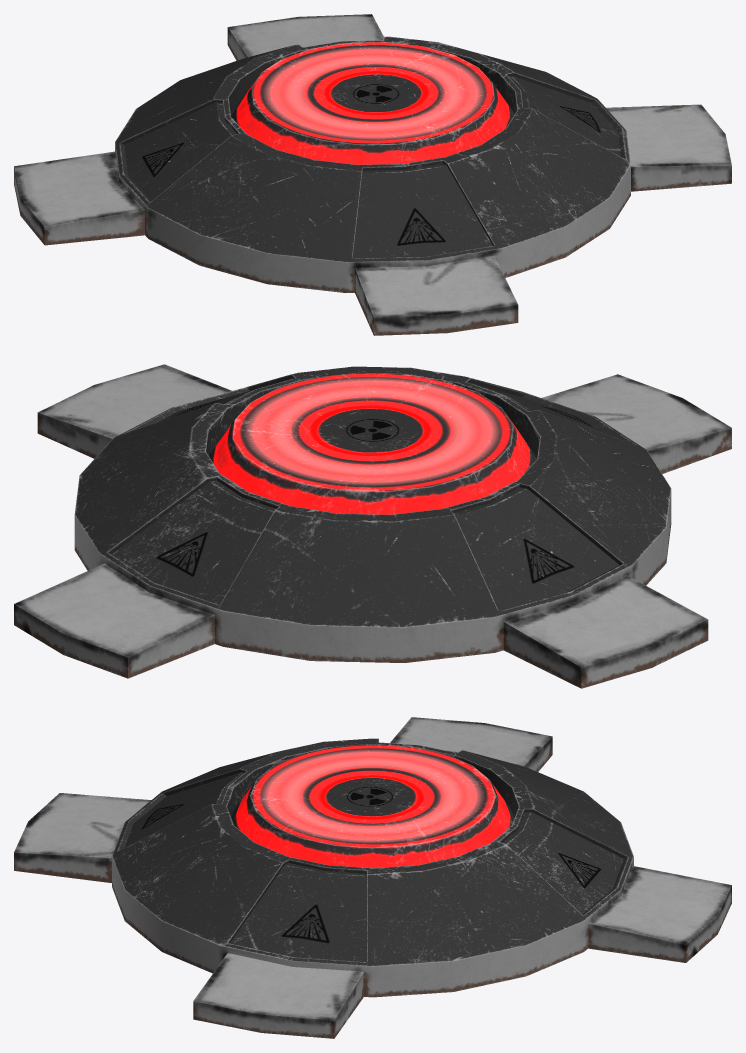
Rendered from landMine.fbx.
3 views of the same model, one above another, from view 1: azimuth 30°, elevation 25°; view 2: azimuth 150°, elevation 25°; view 3: azimuth 270°, elevation 25° (orthographic). The views are drawn at different scales.
Parts seen in each view (by area): view 1: pCylinder1; view 2: pCylinder1; view 3: pCylinder1.
Boxes of the visible parts, bbox=[...] form: pCylinder1: bbox=[14, 14, 731, 335]; pCylinder1: bbox=[14, 364, 731, 688]; pCylinder1: bbox=[14, 717, 731, 1038].
Bounding box in the file's own units: 1565 × 220 × 1565.
